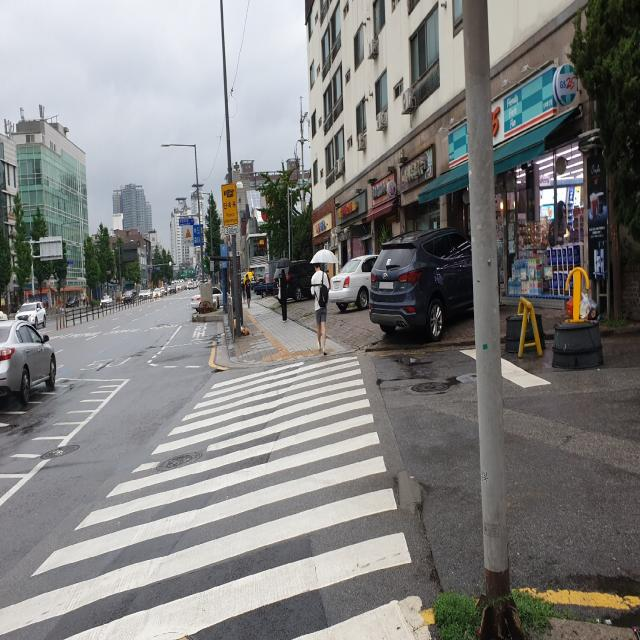횡단보도: (0, 354, 434, 640)
